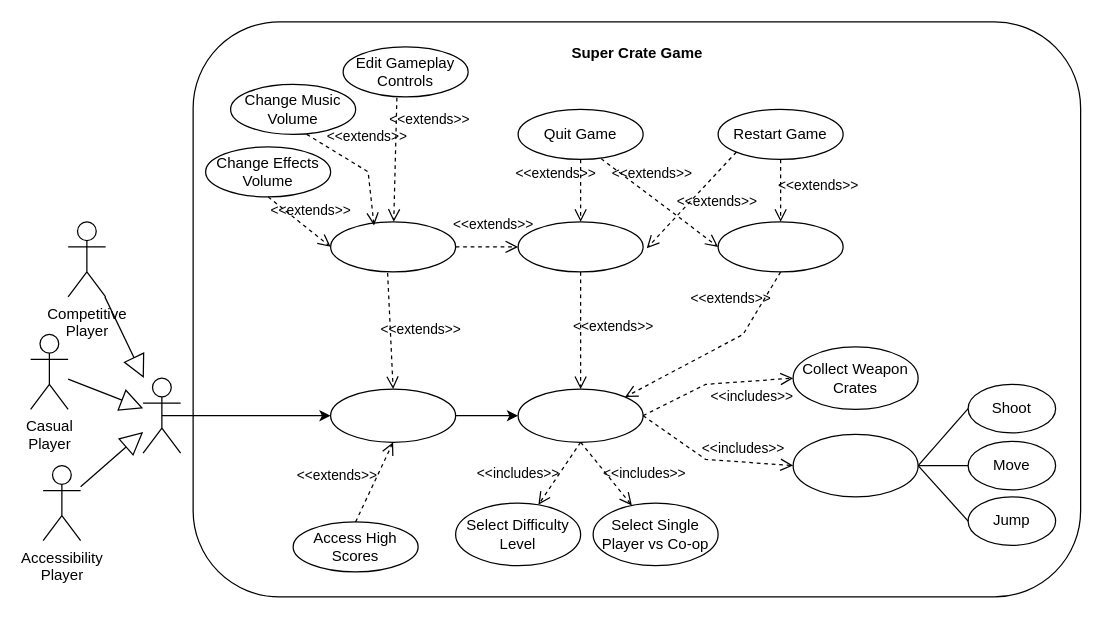
Image size: 1103x619. Some labels were removed from this diagram. The shapes that lost their labels are listed below. From the top down, each one's centre as x and y in pixels, then its label:
At (392,246): "Access settings".
At (580,246): "Pause Game".
At (780,246): "Game Over".
At (161,415): "Player".
At (392,415): "Access Main Menu".
At (580,415): "Play Game".
At (855,465): "Control Player".
